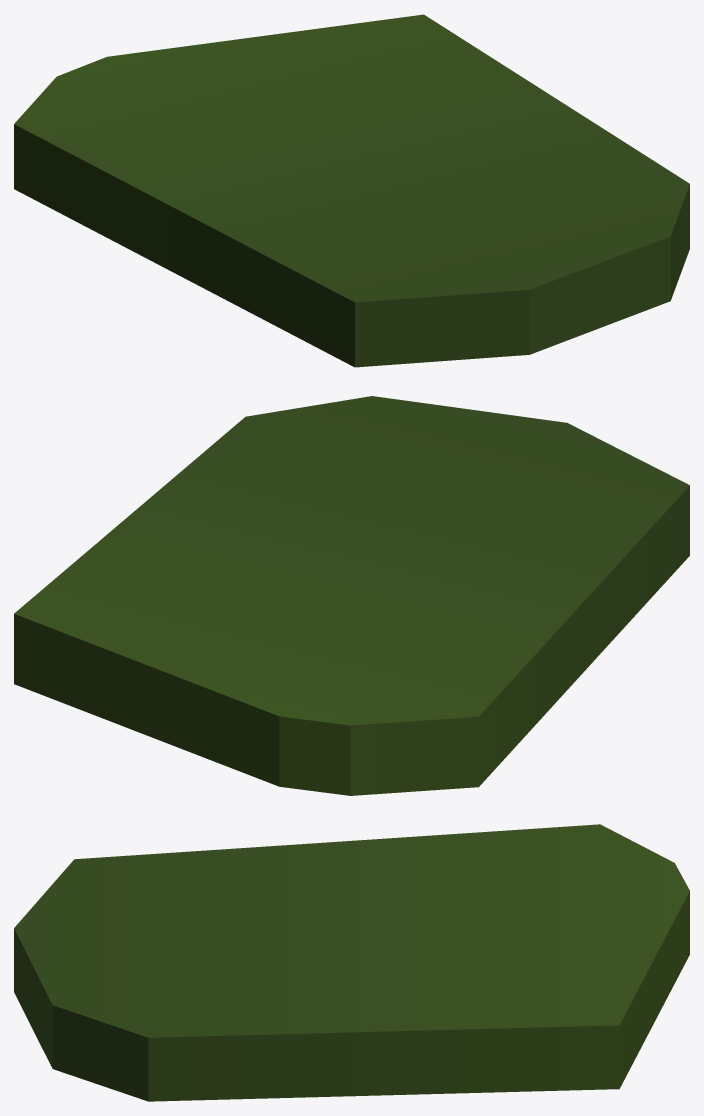
Rendered from Tile_02.fbx.
3 views of the same model, one above another, from view 1: azimuth 30°, elevation 25°; view 2: azimuth 150°, elevation 25°; view 3: azimuth 270°, elevation 25° (orthographic). The views are drawn at different scales.
Visible parts, largest first — view 1: Tile_02; view 2: Tile_02; view 3: Tile_02.
Boxes of the visible parts, <box> form: Tile_02: <box>14,14,689,367</box>; Tile_02: <box>14,396,689,795</box>; Tile_02: <box>14,824,689,1101</box>.
Size of the model in its own units: 0.659 by 0.0919 by 0.8819.
